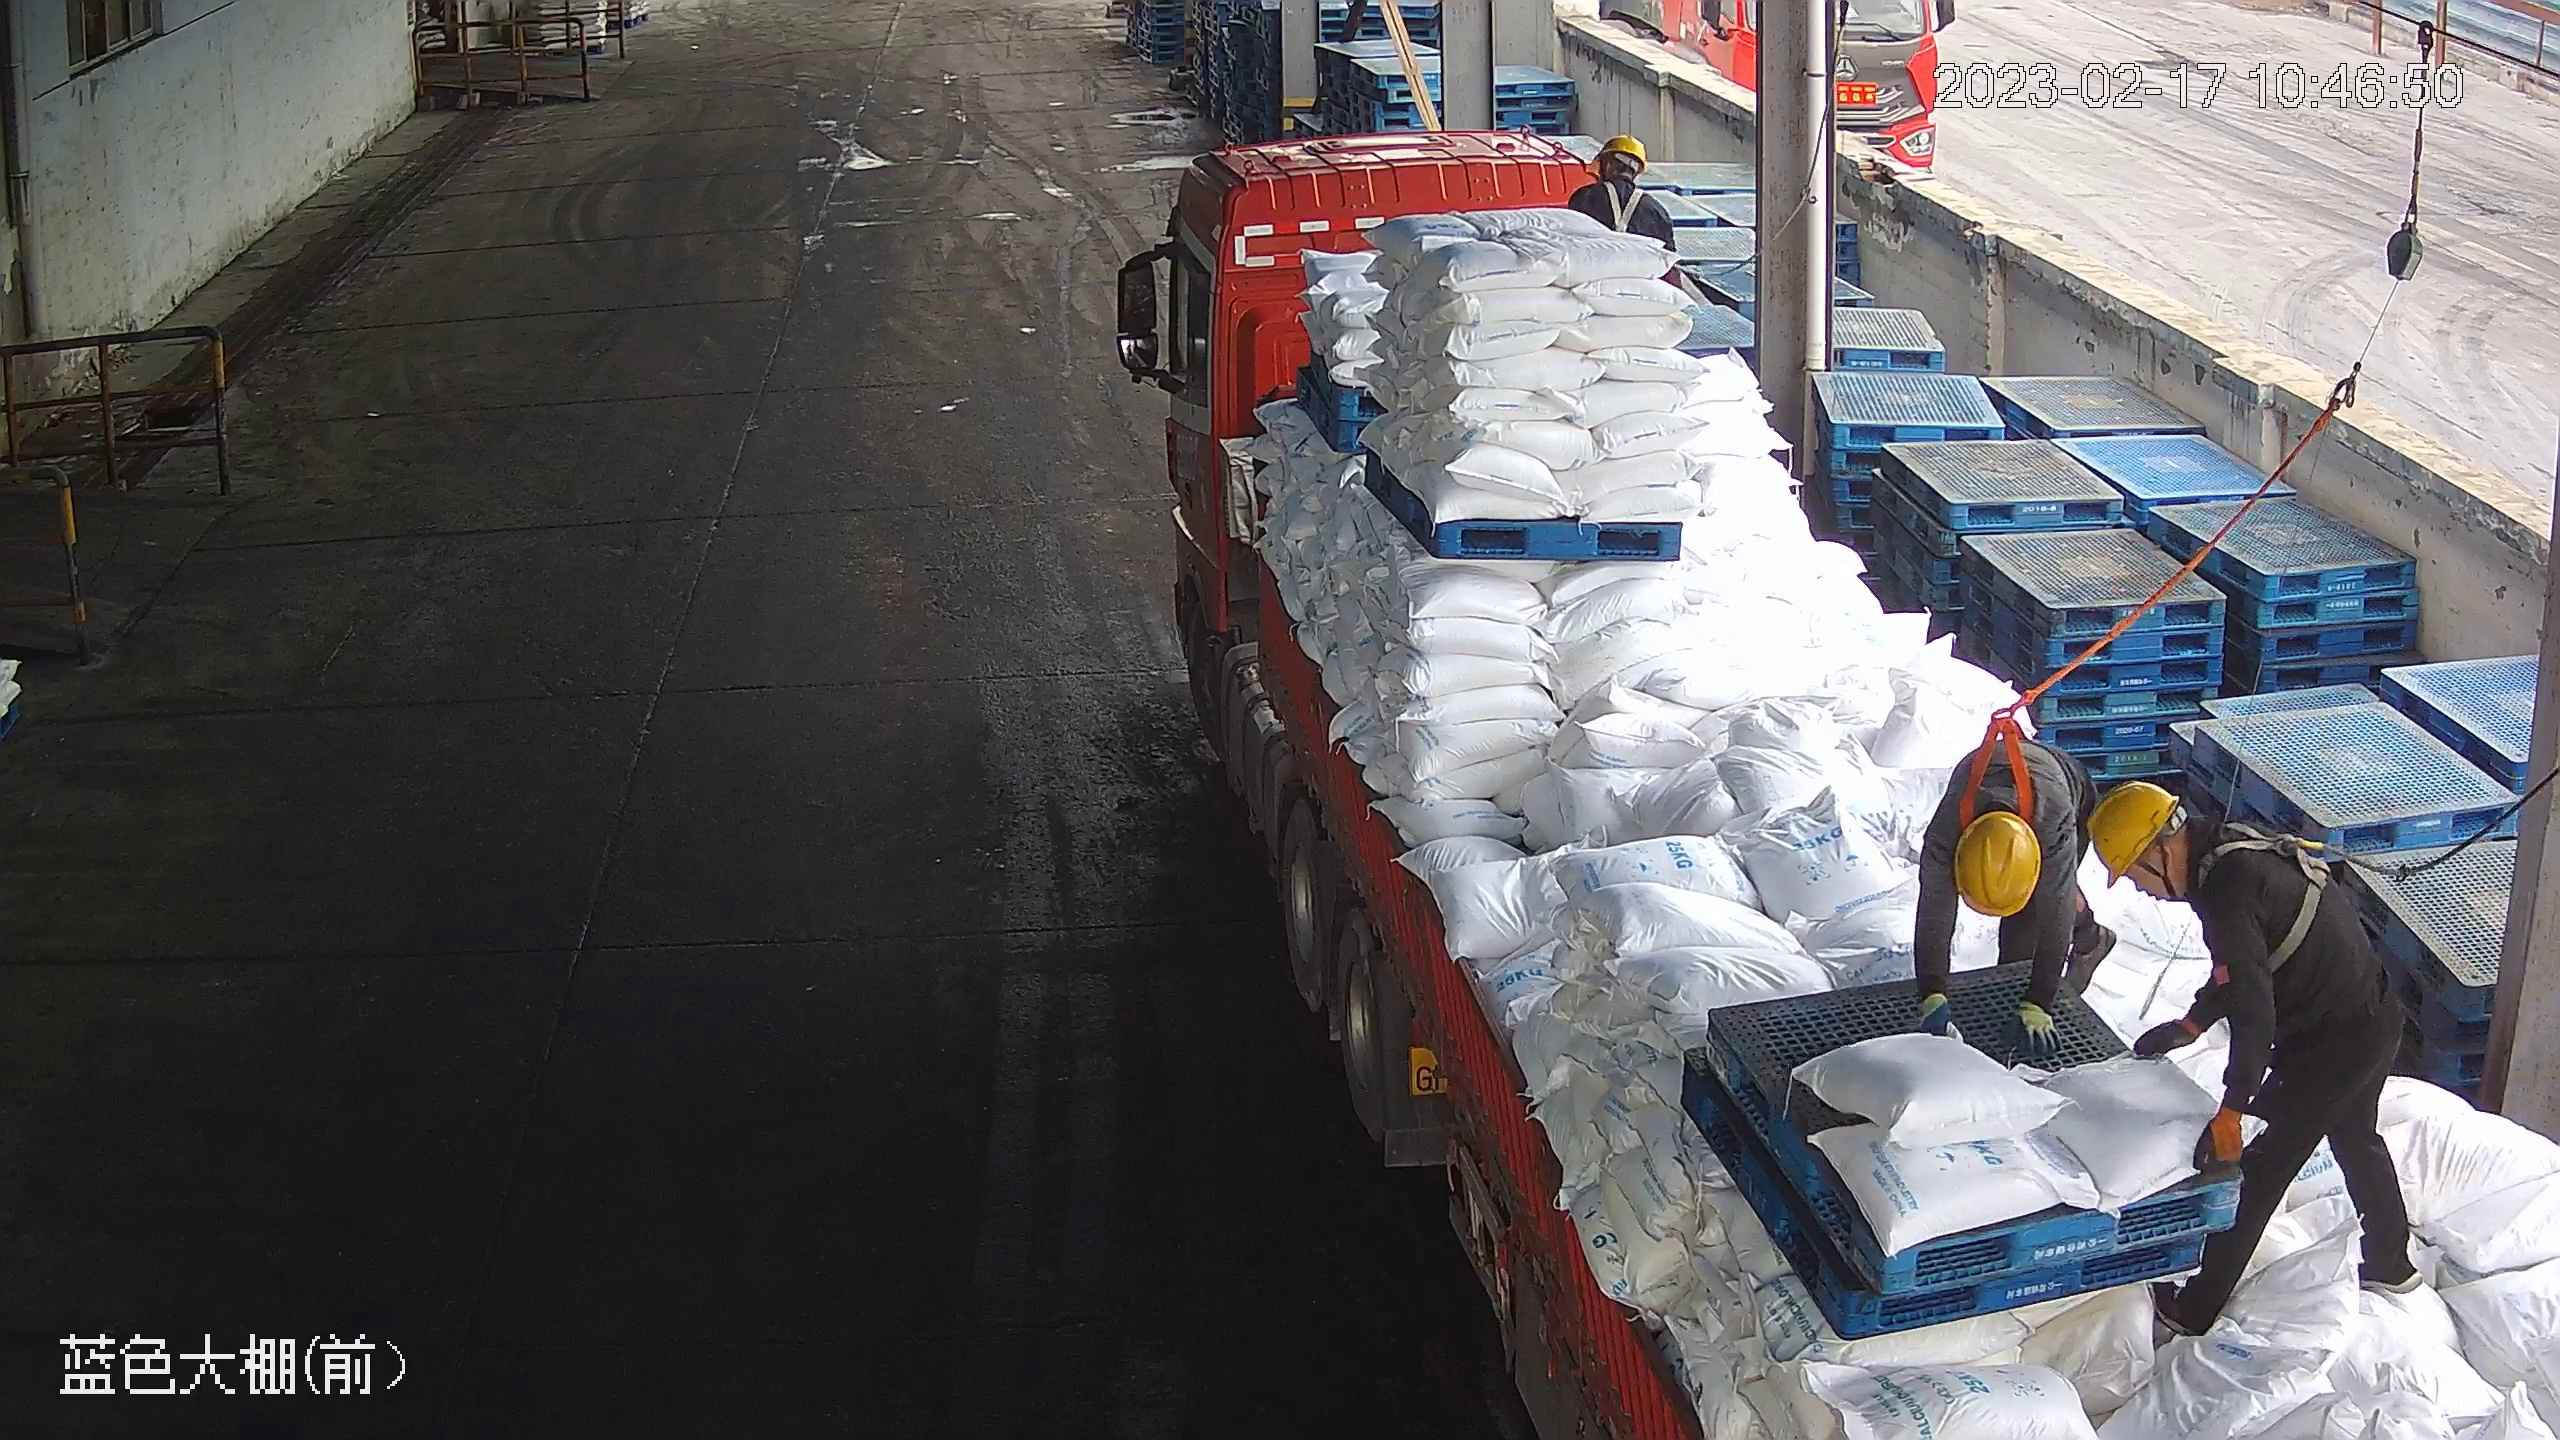belt: (2193, 819, 2334, 973), (1952, 696, 2045, 829)
head: (2085, 780, 2340, 917), (1918, 792, 2077, 920)
helmet: (2087, 780, 2180, 890), (1955, 814, 2042, 918)
people: (2086, 779, 2425, 1339), (1910, 737, 2121, 1054)
truck: (1164, 130, 2560, 1440)
